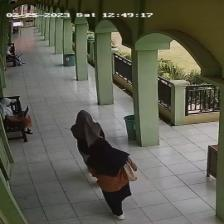Non Syar-i: (86, 137, 134, 180), (68, 110, 101, 147)
